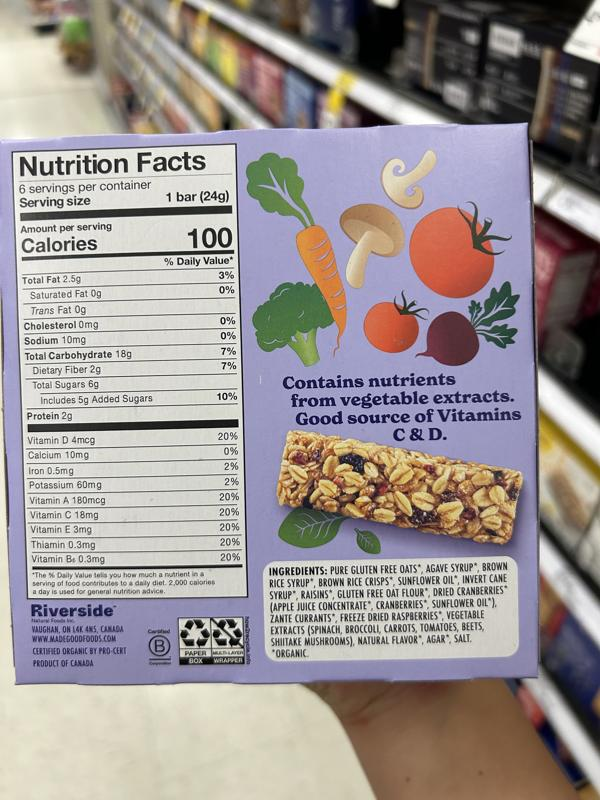ingredients: (267, 562, 510, 648)
